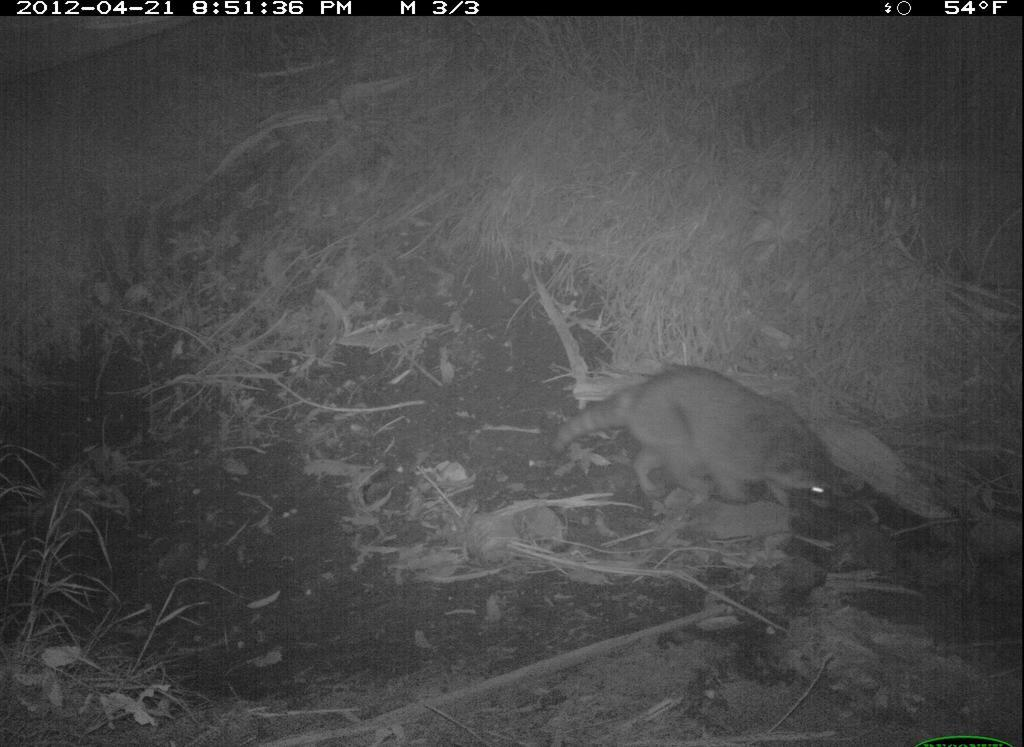raccoon: (543, 353, 872, 552)
